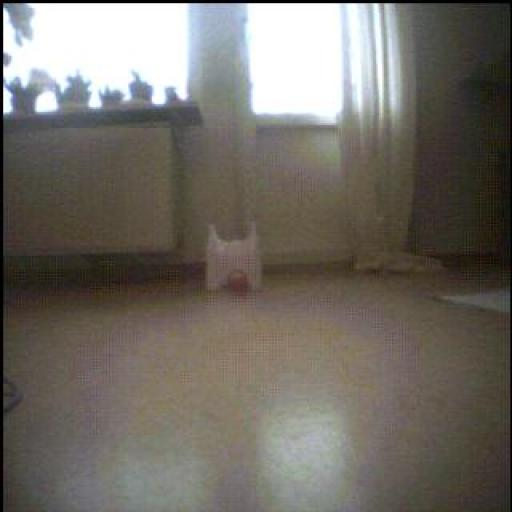Basket: (228, 270, 248, 296)
